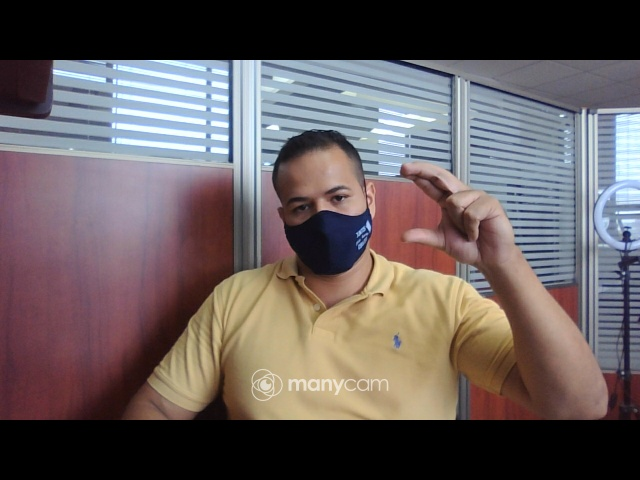No: (395, 157, 526, 266)
